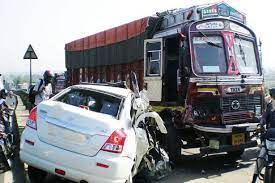accident: (35, 92, 205, 178)
